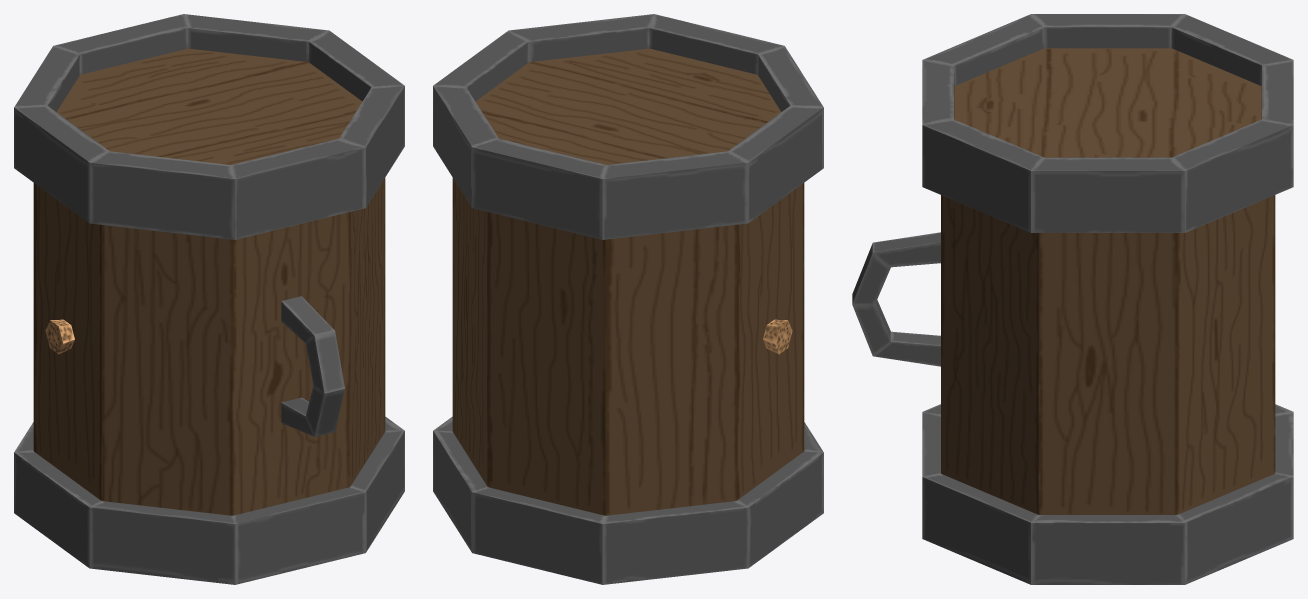
File: Powder Keg 1.2.fbx
3 renders of one model, left to right at view 1: azimuth 30°, elevation 25°; view 2: azimuth 150°, elevation 25°; view 3: azimuth 270°, elevation 25°, orthographic. The views are drawn at different scales.
Parts seen in each view (by area): view 1: Powder Keg; view 2: Powder Keg; view 3: Powder Keg.
Boxes of the visible parts, x1=… form: Powder Keg: x1=14, y1=14, x2=404, y2=584; Powder Keg: x1=433, y1=14, x2=823, y2=584; Powder Keg: x1=852, y1=14, x2=1293, y2=584.
Size of the model in its own units: 81.3 by 100 by 96.65.
